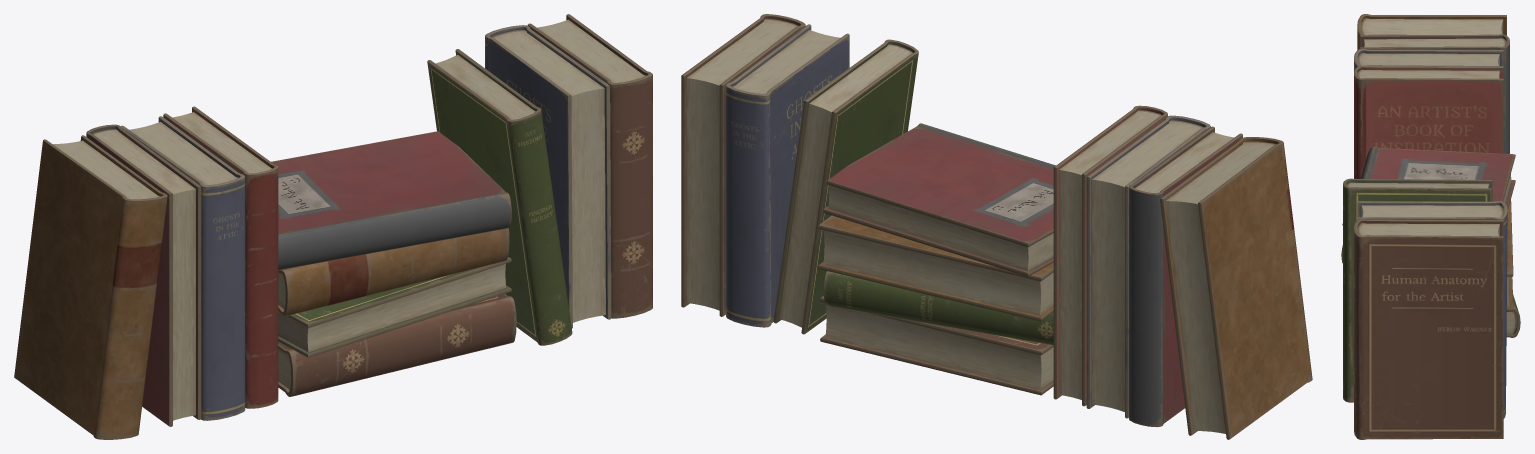
File: old_books-opt.glb
3 views of the same model, side by side, from view 1: azimuth 30°, elevation 25°; view 2: azimuth 150°, elevation 25°; view 3: azimuth 270°, elevation 25° (orthographic). The views are drawn at different scales.
Parts seen in each view (by area): view 1: OldBooksPiles_01a.003__0; view 2: OldBooksPiles_01a.003__0; view 3: OldBooksPiles_01a.003__0.
Boxes of the visible parts, x1,y1,x2,y2 form: OldBooksPiles_01a.003__0: (14,14,652,439); OldBooksPiles_01a.003__0: (681,14,1312,439); OldBooksPiles_01a.003__0: (1341,14,1520,439).
Bounding box in the file's own units: 86.94 × 35.87 × 28.06.
Materials: 1 (1 with a texture image).
